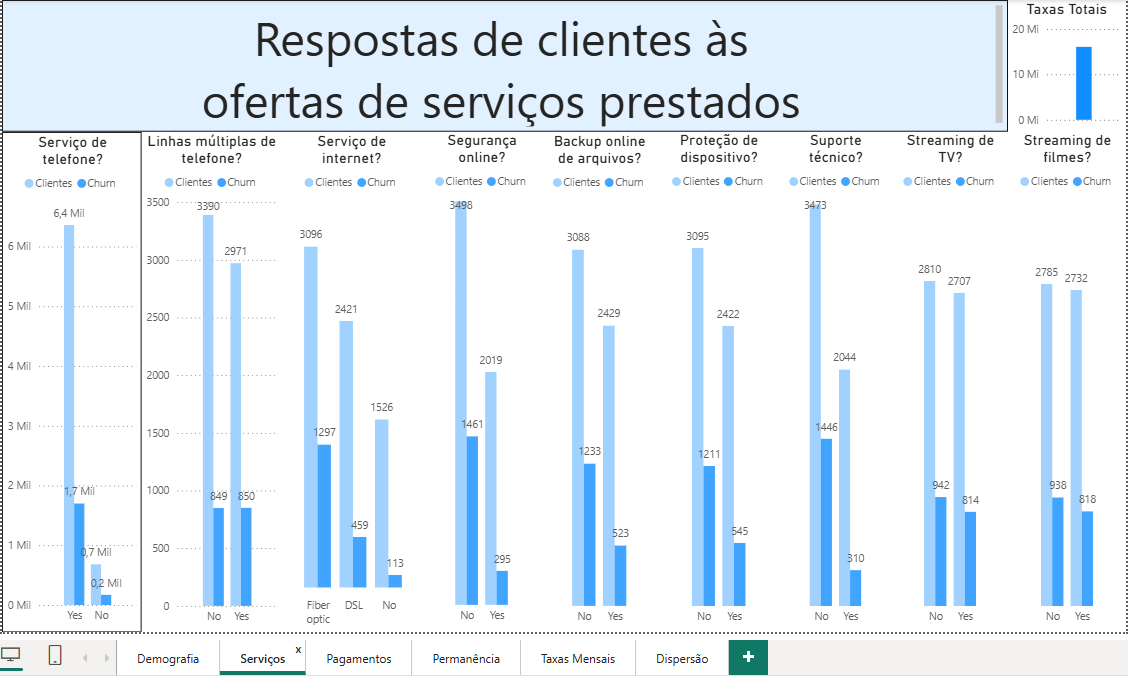

This screenshot's page, from the dashboard's own definition file:
{"tool":"powerbi","page":{"name":"Serviços","canvas":[1280,720],"ordinal":1},"visuals":[{"type":"clusteredColumnChart","title":"Serviço de telefone?","fields":{"Y":["CountNonNull(WA_Fn-UseC_-Telco-Customer-Churn.PhoneService)","Sum(WA_Fn-UseC_-Telco-Customer-Churn.Churn)"],"Category":["WA_Fn-UseC_-Telco-Customer-Churn.PhoneService"]},"box":[0,150.4,159.4,569.9],"z":0},{"type":"clusteredColumnChart","title":"Linhas múltiplas de telefone?","fields":{"Y":["CountNonNull(WA_Fn-UseC_-Telco-Customer-Churn.MultipleLines)","Sum(WA_Fn-UseC_-Telco-Customer-Churn.Churn)"],"Category":["WA_Fn-UseC_-Telco-Customer-Churn.MultipleLines"]},"box":[159.4,150.4,159.4,569.9],"z":1000},{"type":"clusteredColumnChart","title":"Serviço de internet?","fields":{"Y":["CountNonNull(WA_Fn-UseC_-Telco-Customer-Churn.InternetService)","Sum(WA_Fn-UseC_-Telco-Customer-Churn.Churn)"],"Category":["WA_Fn-UseC_-Telco-Customer-Churn.InternetService"]},"box":[318.7,150.4,159.4,569.9],"z":2000},{"type":"clusteredColumnChart","title":"Backup online de arquivos?","fields":{"Category":["WA_Fn-UseC_-Telco-Customer-Churn.OnlineBackup"],"Y":["CountNonNull(WA_Fn-UseC_-Telco-Customer-Churn.OnlineBackup)","Sum(WA_Fn-UseC_-Telco-Customer-Churn.Churn)"]},"box":[613.2,150.4,136.4,569.9],"z":3000},{"type":"clusteredColumnChart","title":"Segurança online?","fields":{"Category":["WA_Fn-UseC_-Telco-Customer-Churn.OnlineSecurity"],"Y":["CountNonNull(WA_Fn-UseC_-Telco-Customer-Churn.OnlineSecurity)","Sum(WA_Fn-UseC_-Telco-Customer-Churn.Churn)"]},"box":[480.6,149.2,132.6,569.9],"z":4000},{"type":"clusteredColumnChart","title":"Proteção de dispositivo?","fields":{"Category":["WA_Fn-UseC_-Telco-Customer-Churn.DeviceProtection"],"Y":["CountNonNull(WA_Fn-UseC_-Telco-Customer-Churn.DeviceProtection)","Sum(WA_Fn-UseC_-Telco-Customer-Churn.Churn)"]},"box":[749.6,149.2,135.1,571.2],"z":5000},{"type":"clusteredColumnChart","title":"Suporte técnico?","fields":{"Category":["WA_Fn-UseC_-Telco-Customer-Churn.TechSupport"],"Y":["CountNonNull(WA_Fn-UseC_-Telco-Customer-Churn.TechSupport)","Sum(WA_Fn-UseC_-Telco-Customer-Churn.Churn)"]},"box":[884.8,149.2,130,571.2],"z":6000},{"type":"clusteredColumnChart","title":"Streaming de filmes?","fields":{"Category":["WA_Fn-UseC_-Telco-Customer-Churn.StreamingMovies"],"Y":["CountNonNull(WA_Fn-UseC_-Telco-Customer-Churn.StreamingMovies)","Sum(WA_Fn-UseC_-Telco-Customer-Churn.Churn)"]},"box":[1148.7,149.2,131.3,571.2],"z":7000},{"type":"clusteredColumnChart","title":"Streaming de TV?","fields":{"Y":["CountNonNull(WA_Fn-UseC_-Telco-Customer-Churn.StreamingTV)","Sum(WA_Fn-UseC_-Telco-Customer-Churn.Churn)"],"Category":["WA_Fn-UseC_-Telco-Customer-Churn.StreamingTV"]},"box":[1014.8,149.2,131.3,571.2],"z":8000},{"type":"textbox","box":[0,0,1146.1,150.4],"z":9000},{"type":"clusteredColumnChart","title":"Taxas Totais","fields":{"Y":["Sum(WA_Fn-UseC_-Telco-Customer-Churn.TotalCharges)"]},"box":[1146.1,0,133.9,150.4],"z":10000}]}

Visuals, with their boxes on the page's 1280x720 design canvas (x1, y1, x2, y2). These are canvas units, not pixel positions in the 1128x676 screenshot, which may show the page scaled, cropped or inside an application window:
"Serviço de telefone?" clusteredColumnChart: Rect(0, 150, 159, 720)
"Linhas múltiplas de telefone?" clusteredColumnChart: Rect(159, 150, 319, 720)
"Serviço de internet?" clusteredColumnChart: Rect(319, 150, 478, 720)
"Backup online de arquivos?" clusteredColumnChart: Rect(613, 150, 750, 720)
"Segurança online?" clusteredColumnChart: Rect(481, 149, 613, 719)
"Proteção de dispositivo?" clusteredColumnChart: Rect(750, 149, 885, 720)
"Suporte técnico?" clusteredColumnChart: Rect(885, 149, 1015, 720)
"Streaming de filmes?" clusteredColumnChart: Rect(1149, 149, 1280, 720)
"Streaming de TV?" clusteredColumnChart: Rect(1015, 149, 1146, 720)
textbox: Rect(0, 0, 1146, 150)
"Taxas Totais" clusteredColumnChart: Rect(1146, 0, 1280, 150)
